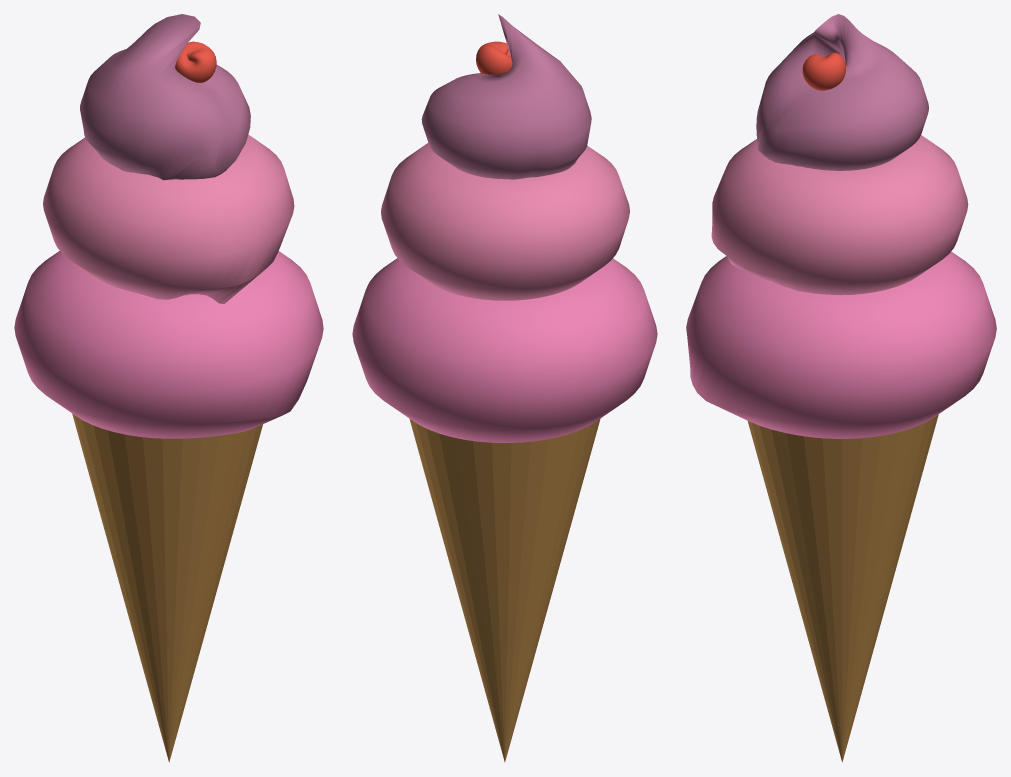
The model's file is icecream.glb.
3 renders of one model, left to right at view 1: azimuth 30°, elevation 25°; view 2: azimuth 150°, elevation 25°; view 3: azimuth 270°, elevation 25°, orthographic.
Parts seen in each view (by area): view 1: Torus.002, Cone, Torus.001, Torus.003, Sphere; view 2: Torus.002, Cone, Torus.001, Torus.003, Sphere; view 3: Torus.002, Cone, Torus.001, Torus.003, Sphere.
Part boxes in pixels (x1,y1,x2,y2): Torus.002: (14, 251, 323, 438); Cone: (72, 413, 262, 762); Torus.001: (43, 134, 294, 303); Torus.003: (80, 14, 250, 180); Sphere: (175, 41, 216, 82); Torus.002: (352, 258, 657, 442); Cone: (409, 418, 600, 762); Torus.001: (381, 143, 629, 300); Torus.003: (421, 14, 591, 179); Sphere: (476, 41, 512, 74); Torus.002: (686, 251, 996, 438); Cone: (747, 414, 938, 762); Torus.001: (711, 135, 968, 295); Torus.003: (756, 14, 928, 170); Sphere: (802, 52, 845, 90).
Bounding box in the file's own units: 2.25 × 6.02 × 2.26.
